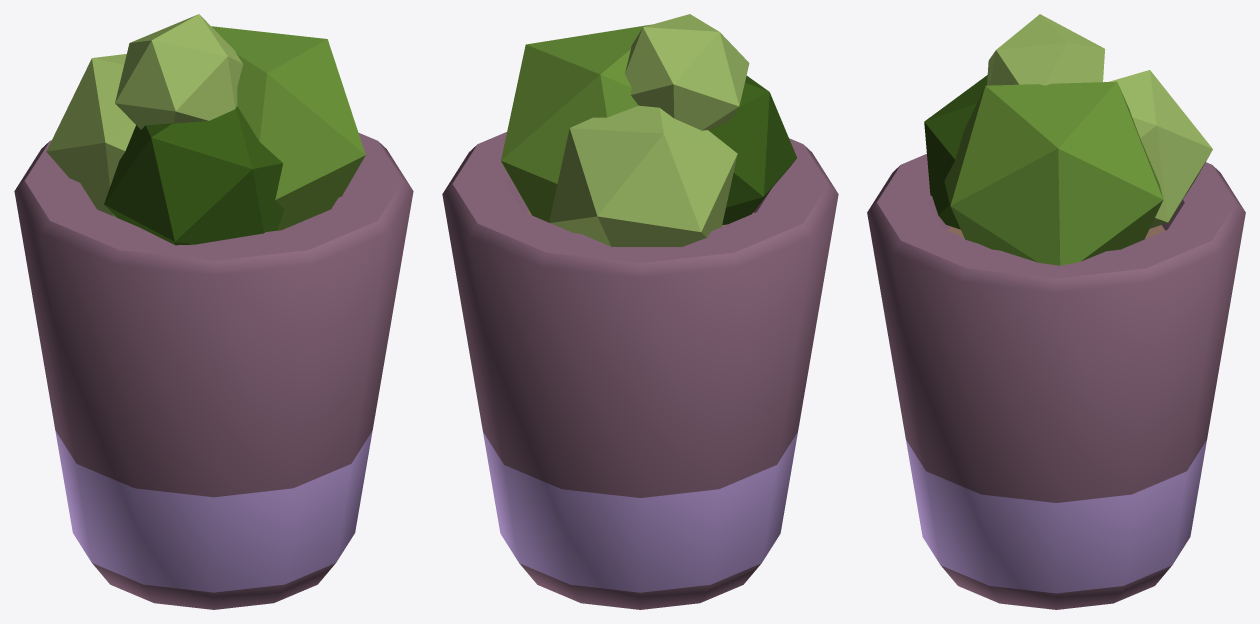
File: plant_5.glb
The picture shows the model from 3 angles, left to right: view 1: azimuth 30°, elevation 25°; view 2: azimuth 150°, elevation 25°; view 3: azimuth 270°, elevation 25°; orthographic projection. The views are drawn at different scales.
Visible parts, largest first — view 1: Plant_Deco; view 2: Plant_Deco; view 3: Plant_Deco.
Boxes of the visible parts, <box> form: Plant_Deco: <box>14,14,413,609</box>; Plant_Deco: <box>442,14,838,609</box>; Plant_Deco: <box>867,14,1245,609</box>.
Bounding box in the file's own units: 0.188 × 0.2875 × 0.188.
1 material, 1 textured.
